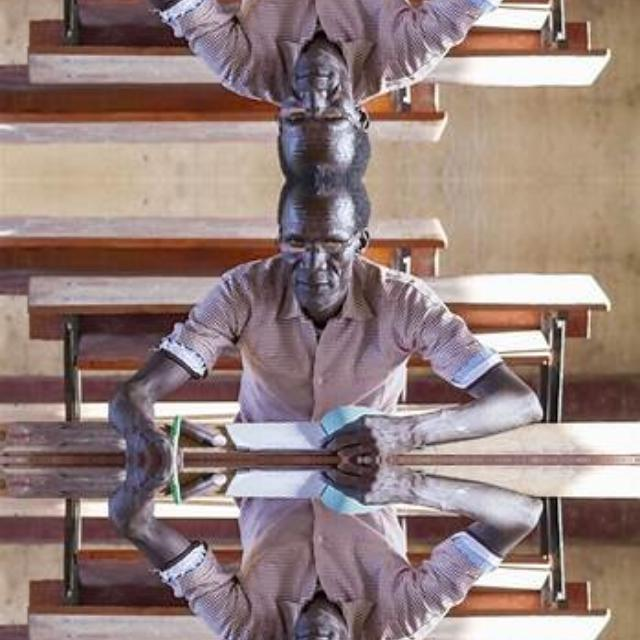person: (123, 179, 517, 459), (123, 460, 517, 640), (123, 0, 517, 179)
